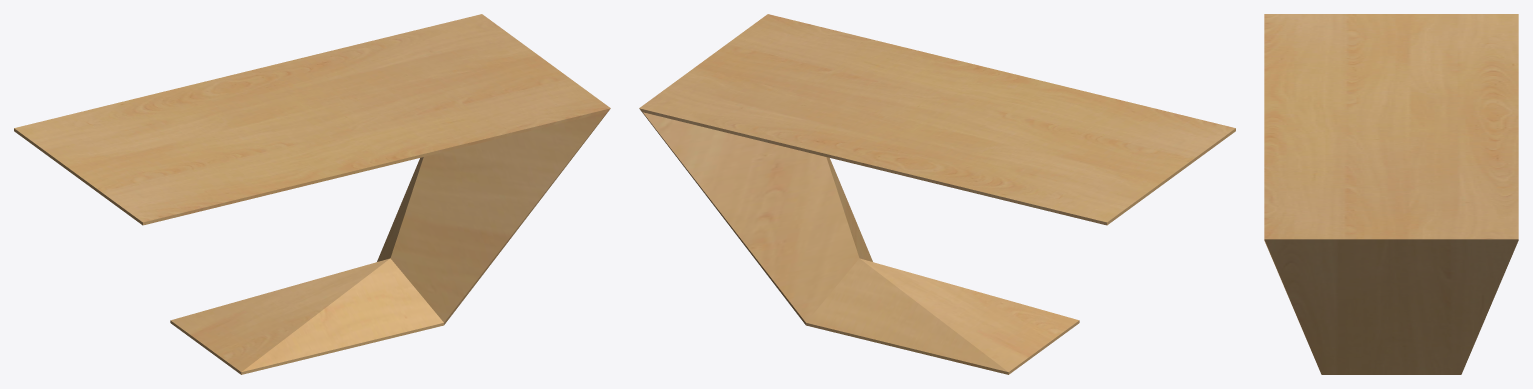
Rendered from mesa.gltf.
The picture shows the model from 3 angles, left to right: view 1: azimuth 30°, elevation 25°; view 2: azimuth 150°, elevation 25°; view 3: azimuth 270°, elevation 25°; orthographic projection.
Parts seen in each view (by area): view 1: Desk:PIV; view 2: Desk:PIV; view 3: Desk:PIV.
Part boxes in pixels (<box>): Desk:PIV: <box>14,14,610,374</box>; Desk:PIV: <box>639,14,1235,374</box>; Desk:PIV: <box>1264,14,1518,374</box>.
Size of the model in its own units: 1.77 by 0.741 by 0.845.
Materials: 1 (1 with a texture image).
